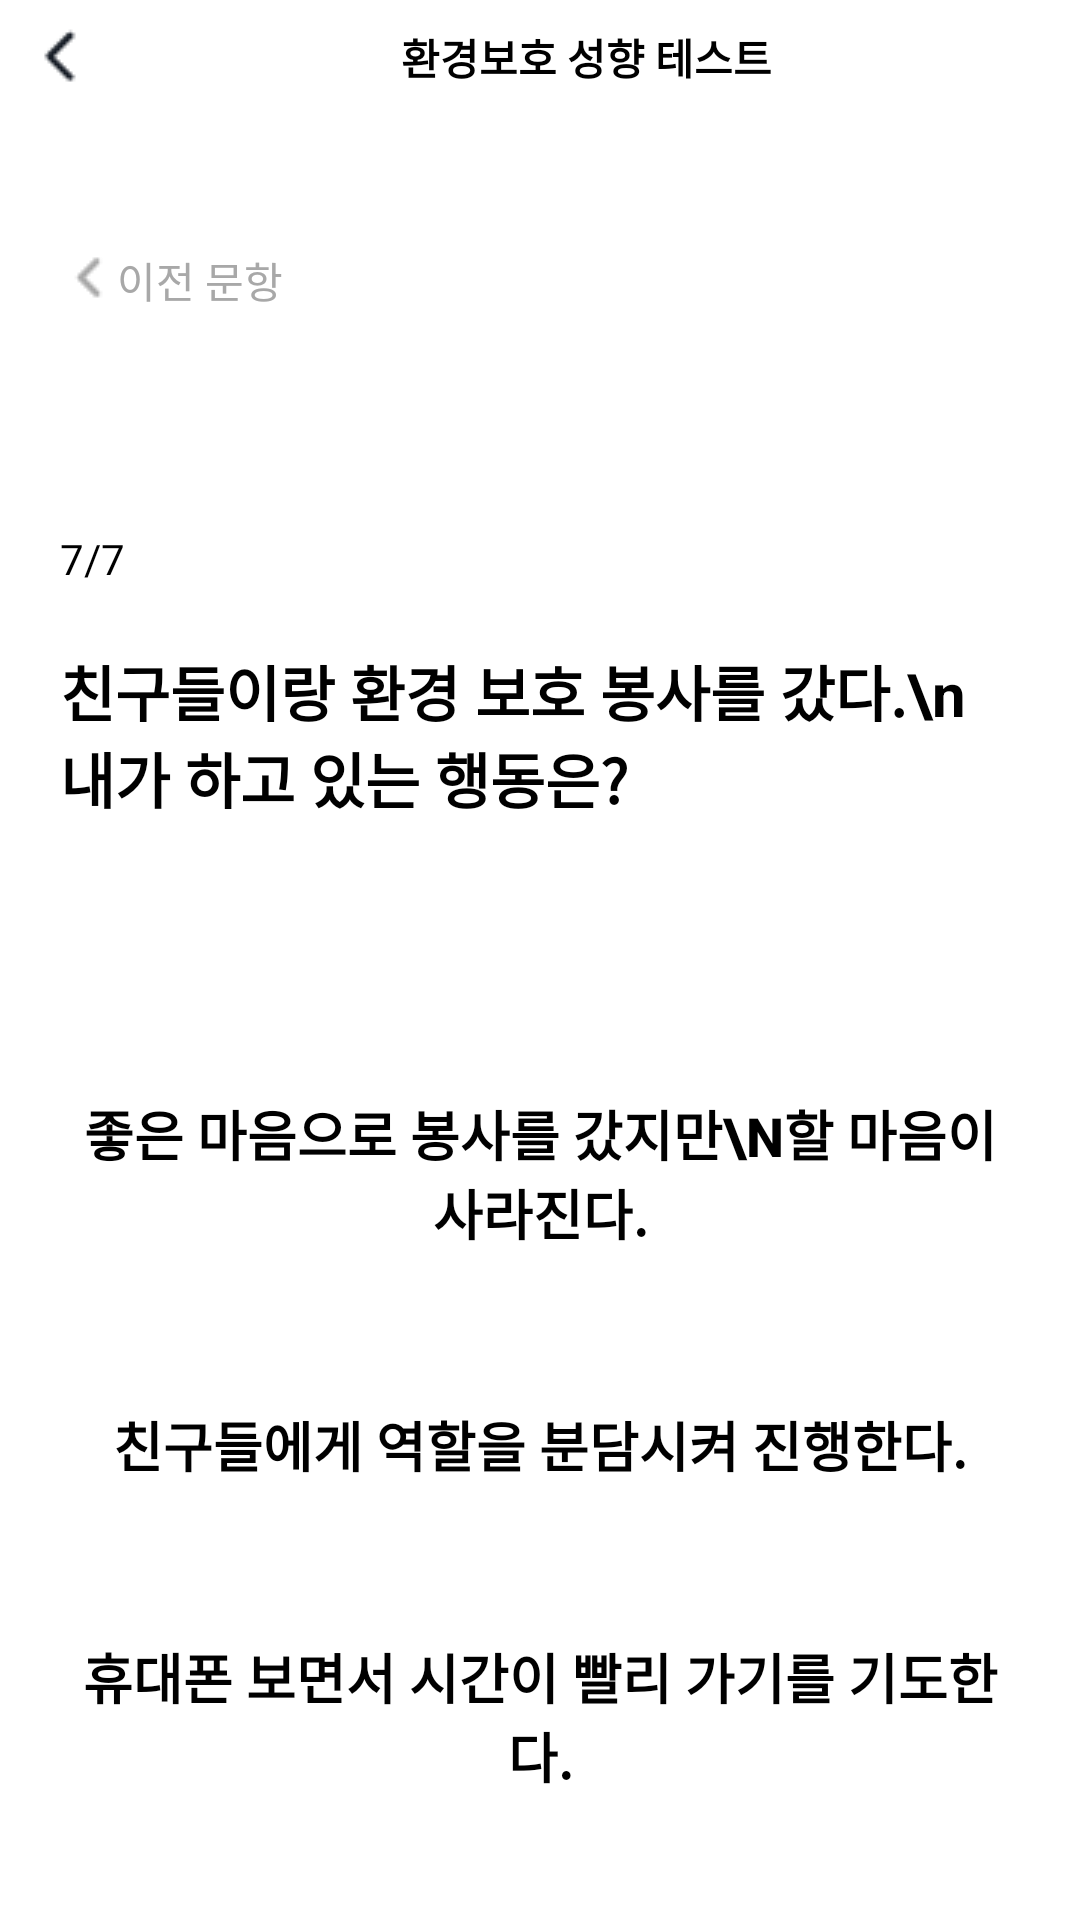

Icon bounding boxes for this 1080px×1920px phone screenshot, format (x1, y1, x2, y2):
backicon: (44, 30, 76, 82)
greybackicon: (77, 258, 100, 297)
